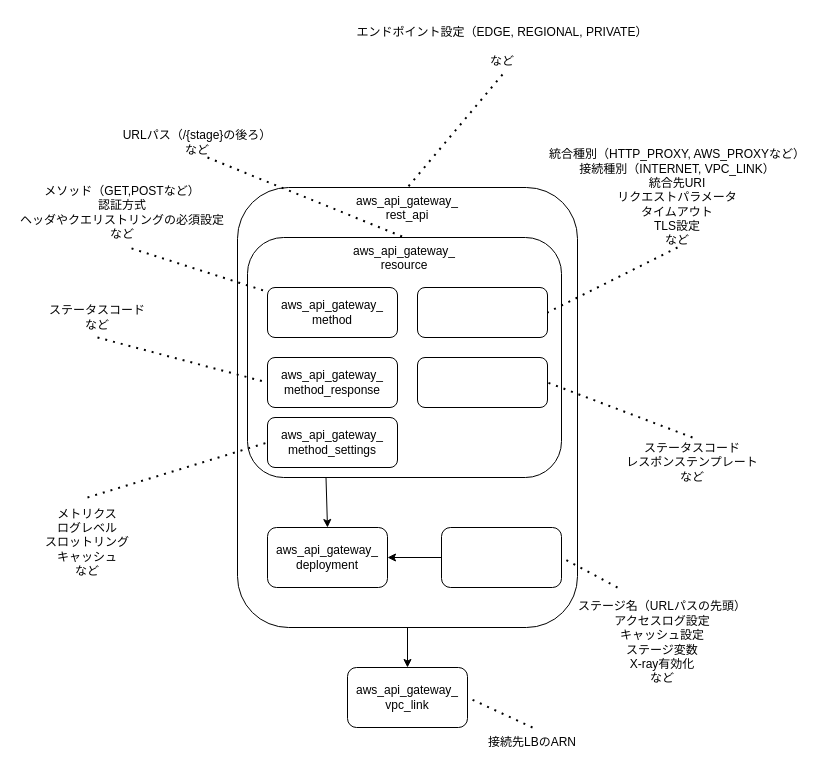
Some shapes in this 824 by 774 pixel diagram are drawn without their labels. The shapes that lost their labels are listed below. From the top down, each one's box as (x1, y1, x2, y2) in pixels, then its label:
(416, 286, 548, 338): aws_api_gateway_ integration
(416, 356, 548, 408): aws_api_gateway_ integration_response
(440, 526, 562, 588): aws_api_gateway_ stage
